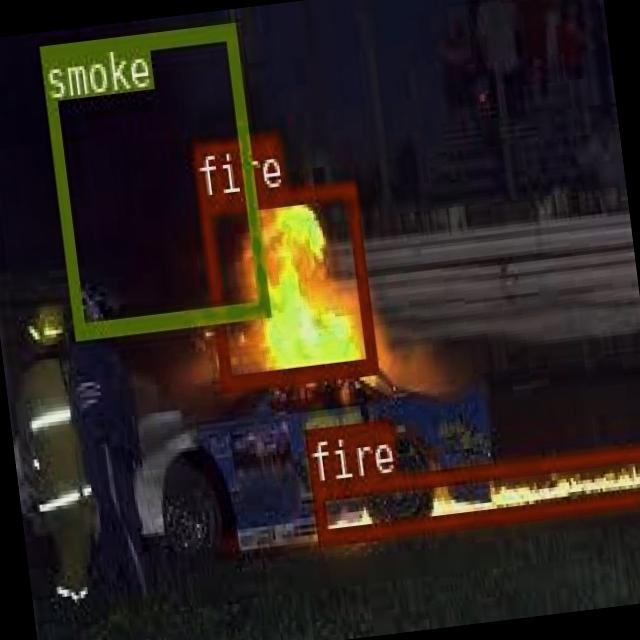fire: (196, 177, 376, 390), (309, 443, 640, 542)
smoke: (37, 20, 268, 336)
